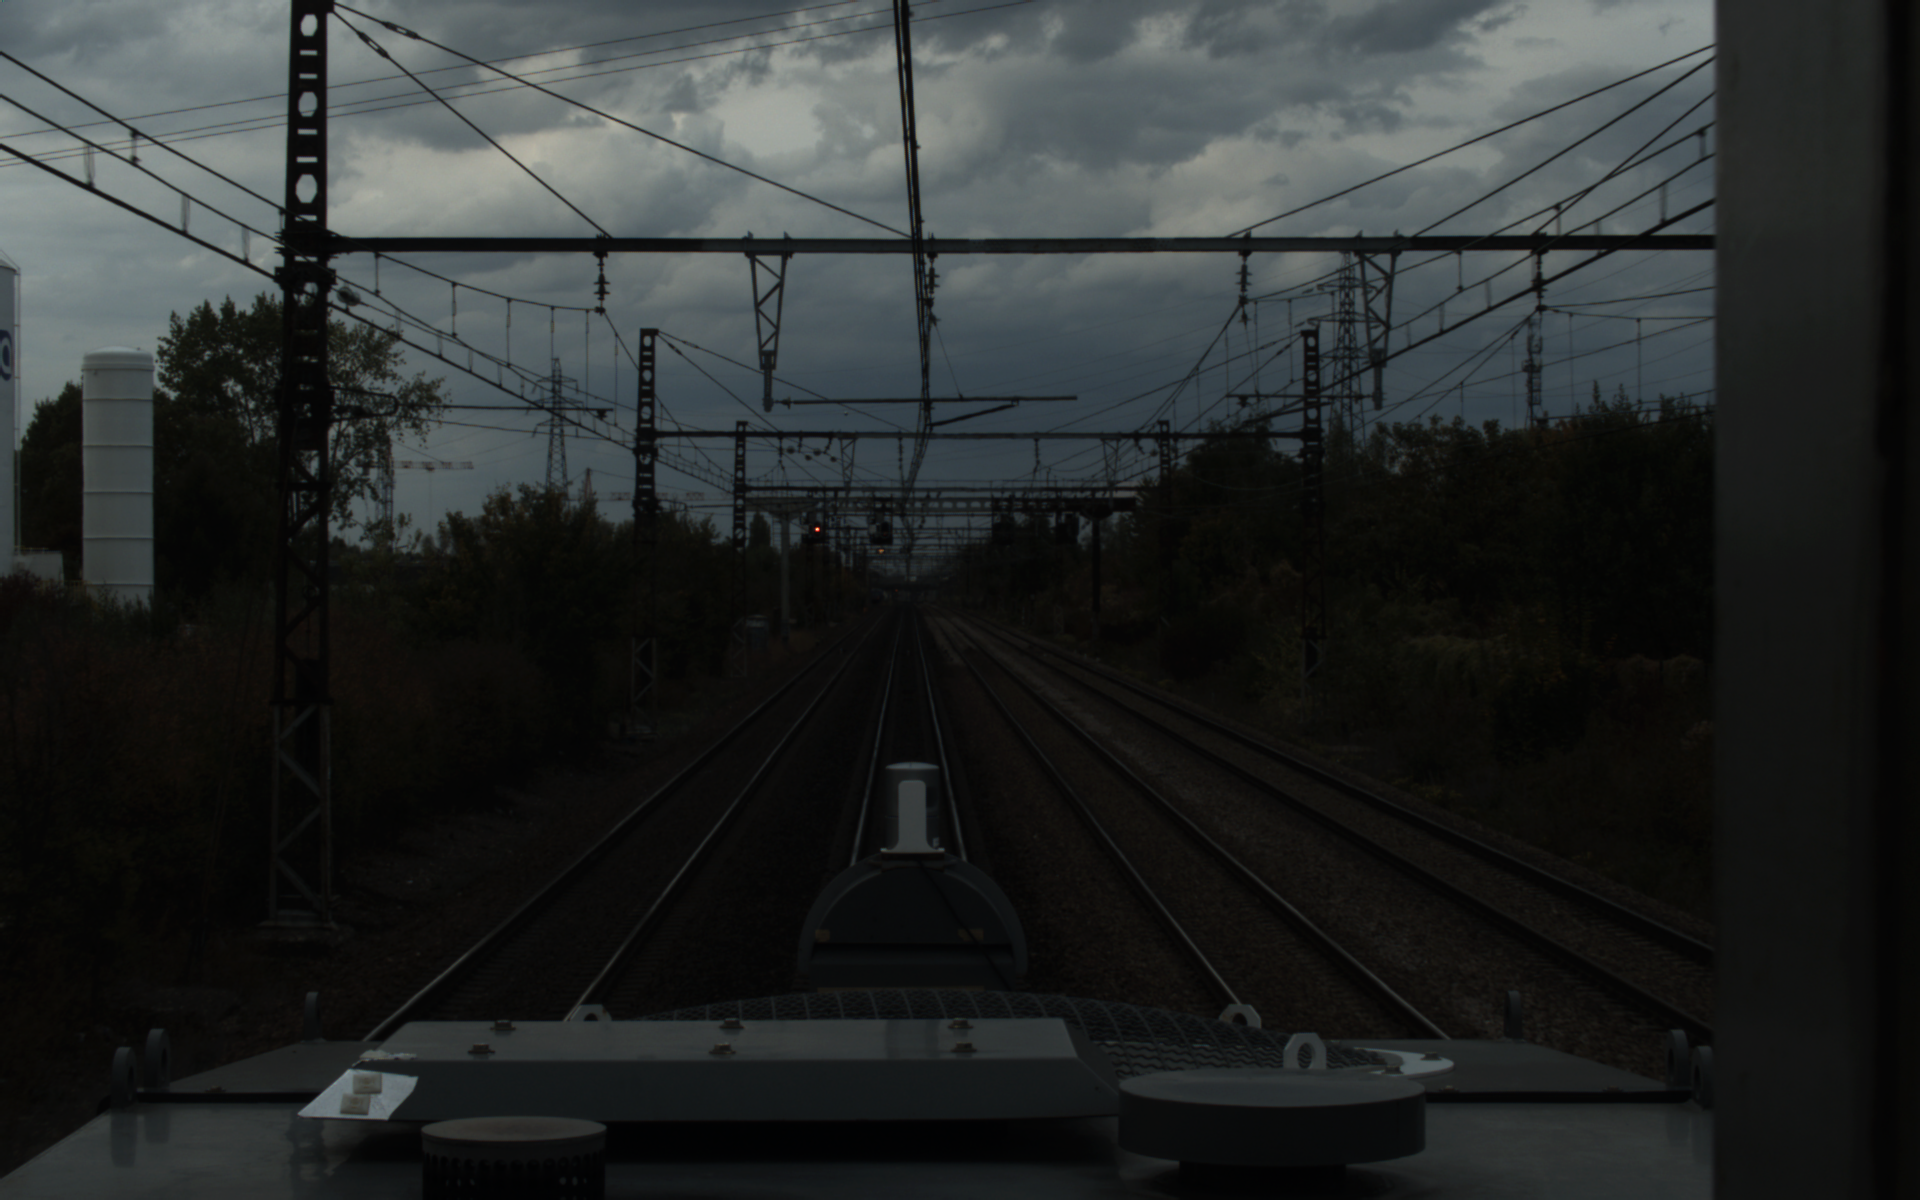Blinking: (876, 520, 892, 539)
Fixed: (810, 518, 822, 541)
